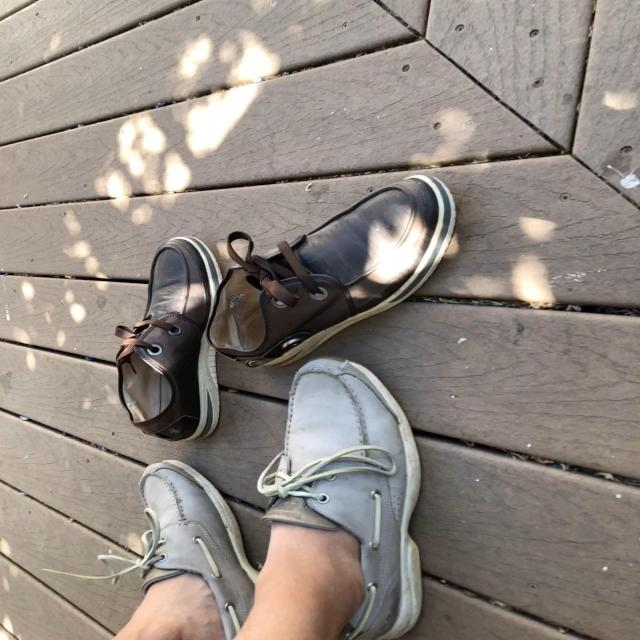shoe: (257, 360, 423, 640), (138, 462, 257, 640)
